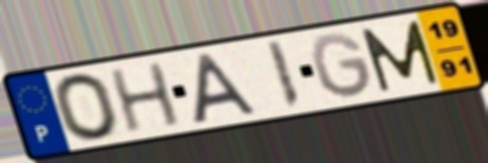A: (190, 50, 262, 127)
G: (308, 31, 377, 101)
H: (106, 59, 185, 136)
I: (264, 38, 305, 112)
M: (357, 18, 443, 95)
O: (49, 70, 123, 143)
